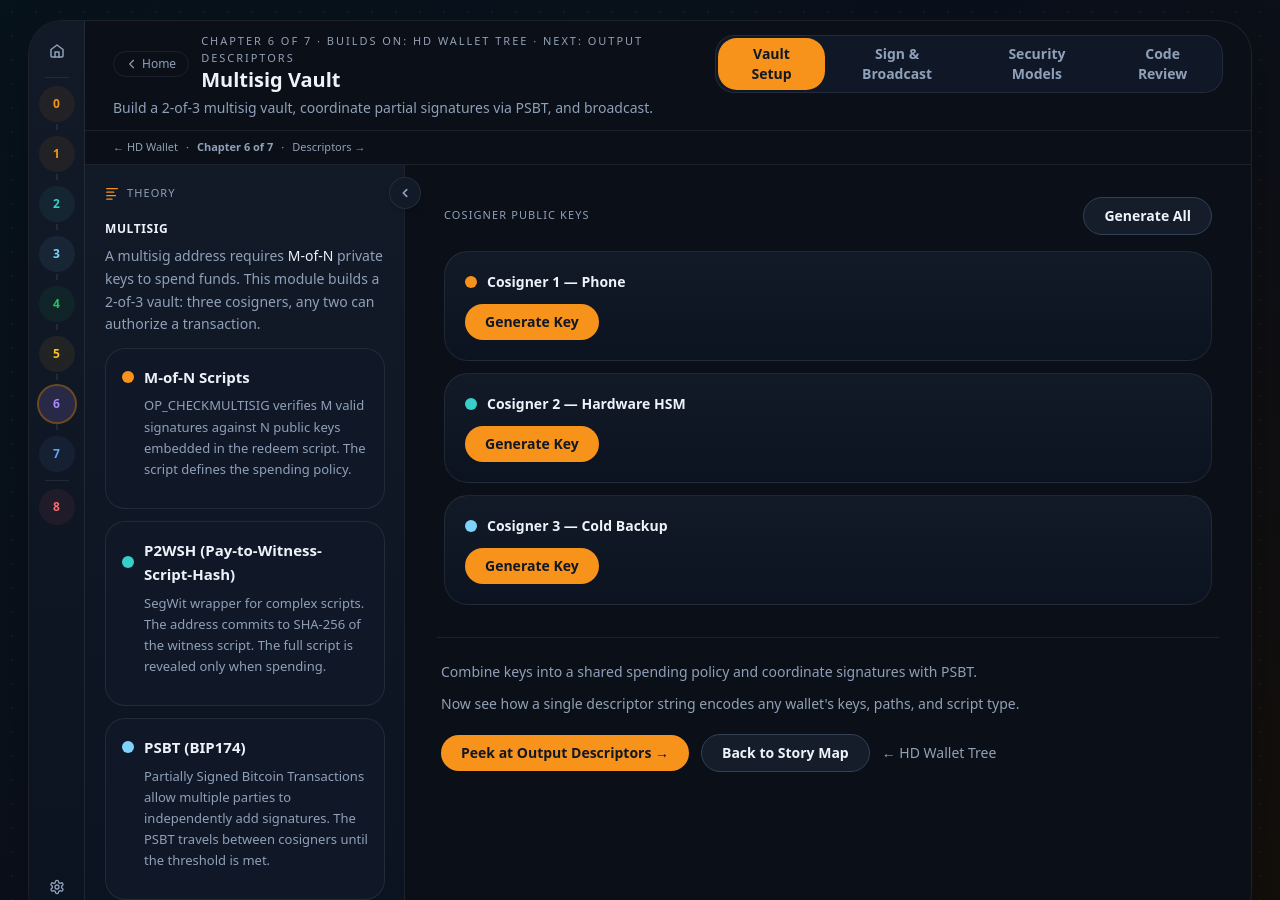
MultisigVault › AC12: model stepper direct click jumps to correct model
Click the tab "Security Models".
click(1037, 64)  # box left=969, top=38, right=1105, bottom=90
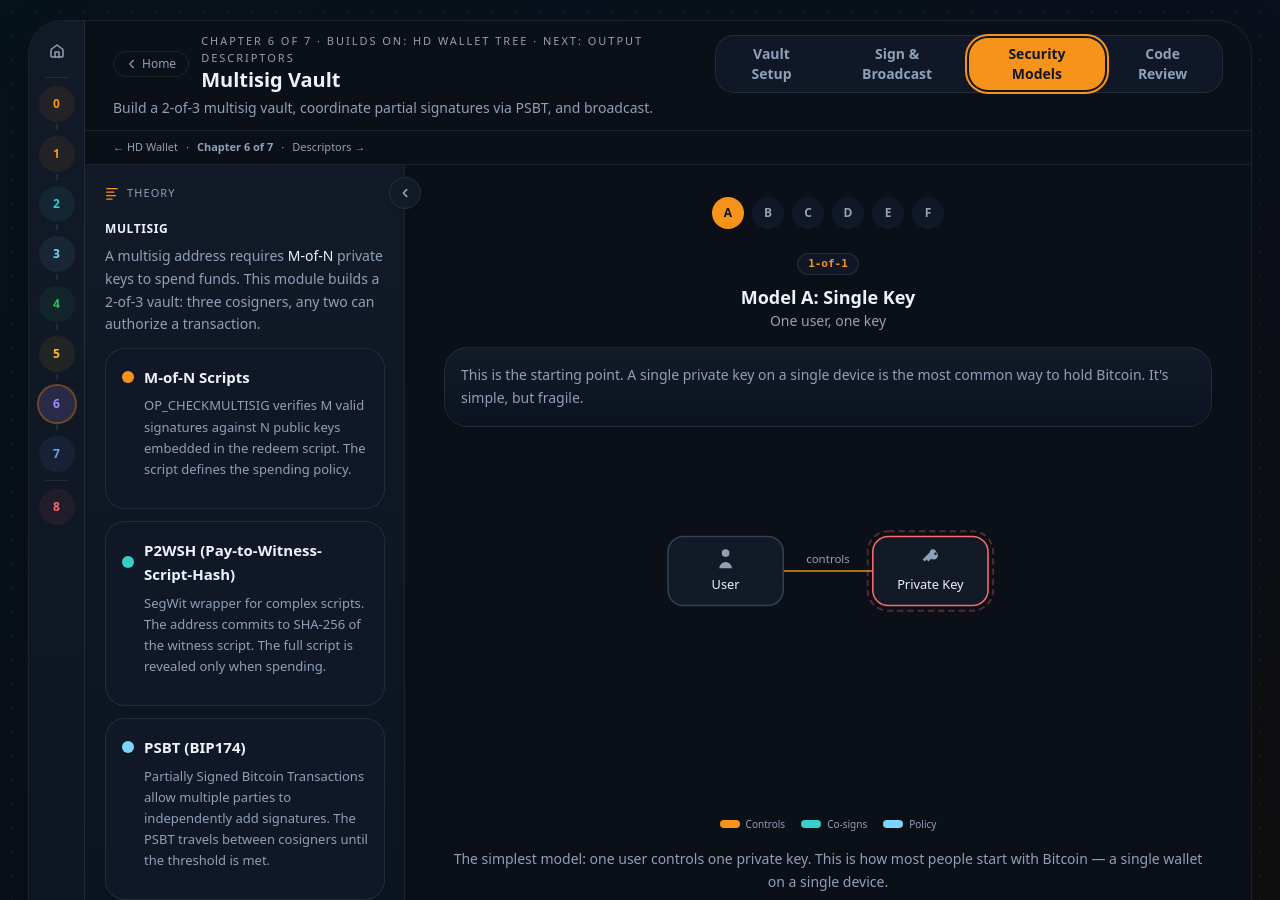
Expected: the heading "Model A: Single Key" is shown, left=741, top=285, right=915, bottom=309
Note: Click stepper circle for Model D
Click the tab named "Model D".
click(848, 212)  # box left=832, top=196, right=864, bottom=228
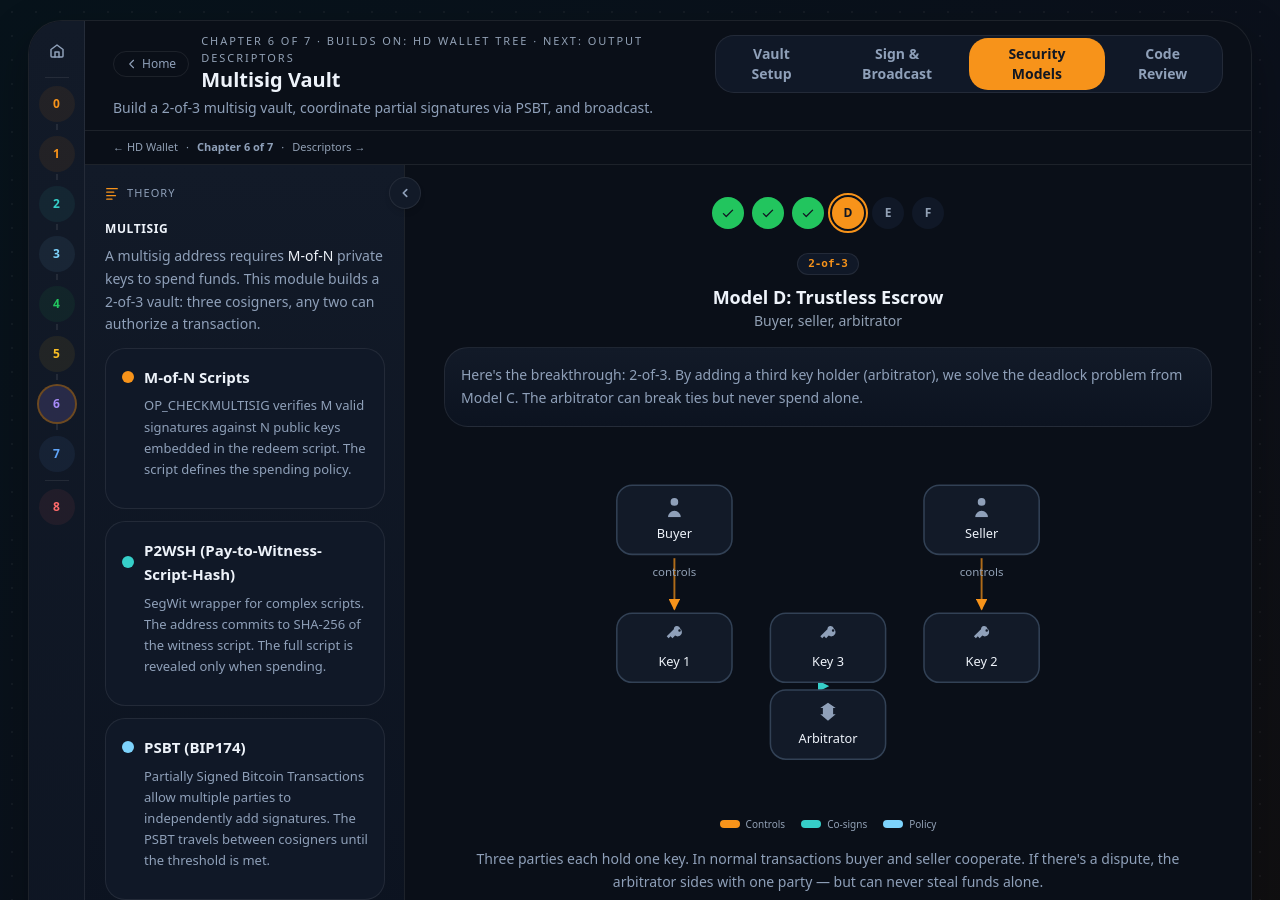
Expected: the heading "Model D: Trustless Escrow" is shown, left=713, top=285, right=943, bottom=309
